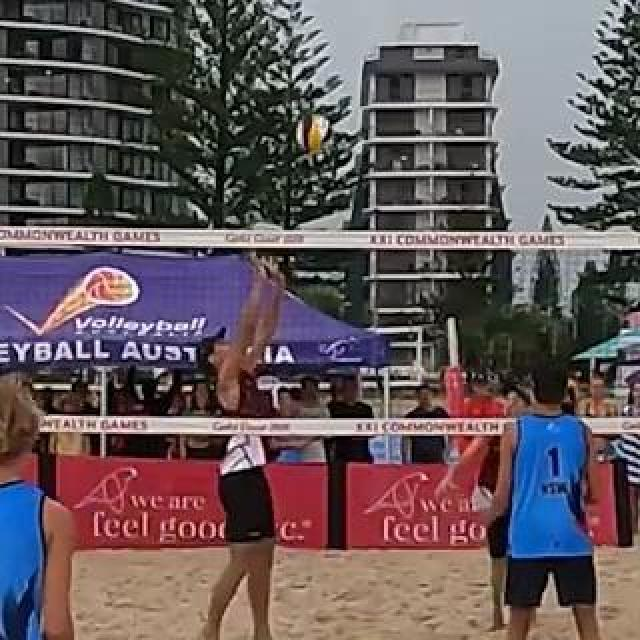volleyball: (296, 117, 330, 153)
